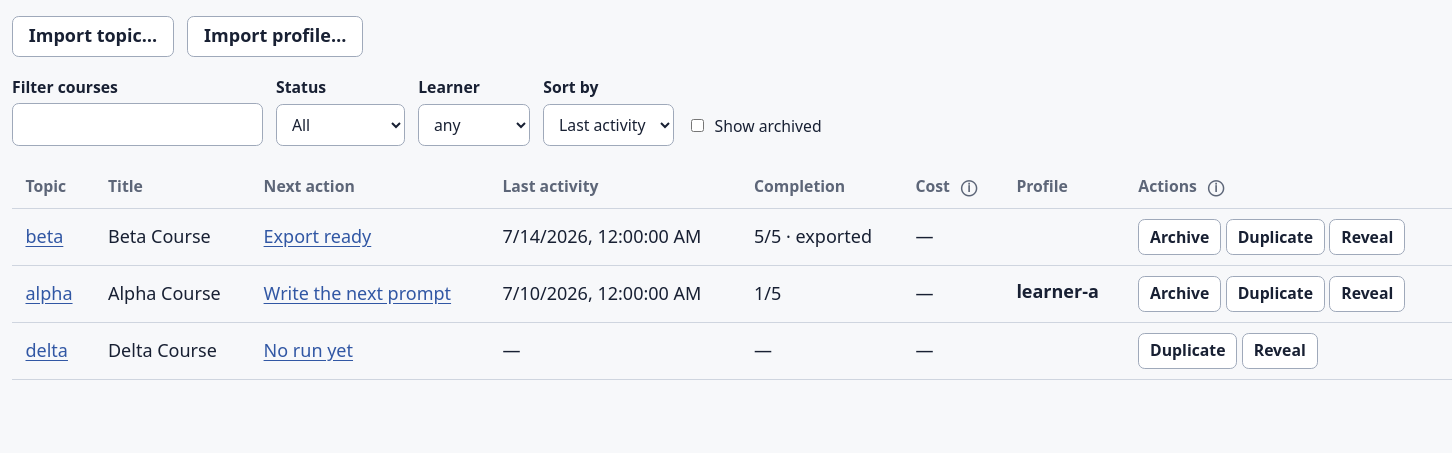
Test: TopicListPage filtering and sorting › hides archived courses by default and shows them on toggle
expect the link "alpha" is shown: met, box [26,281,72,305]
expect the link "gamma" is not shown: met
Click the checkbox labelled "Show archived".
click(698, 126)  # box [691,119,704,132]
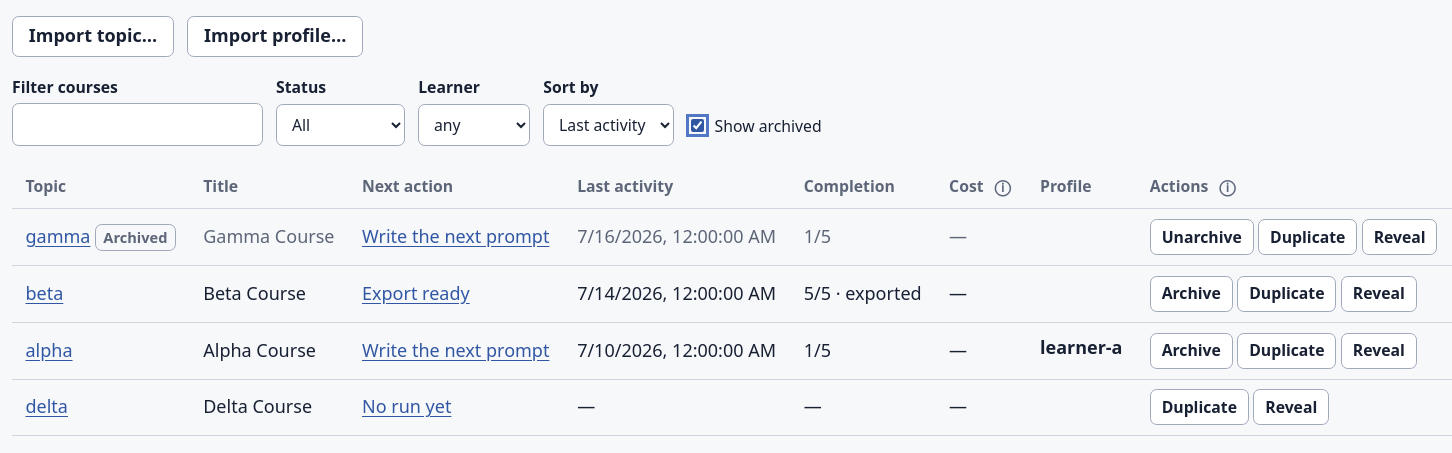
expect the text "Show archived" is shown: met, box [691,114,822,136]
expect the link "gamma" is shown: met, box [26,224,90,248]
